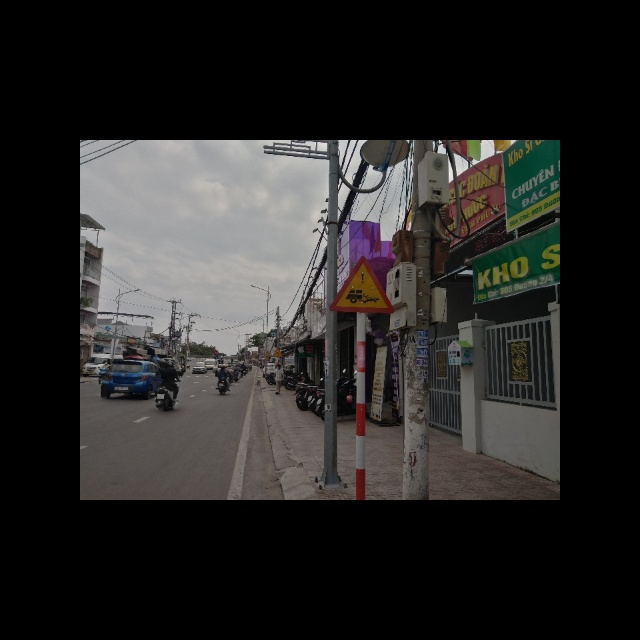Đoạn đường hay xảy ra tai nạn: (330, 254, 394, 312)
Đường đôi: (272, 346, 284, 358)
